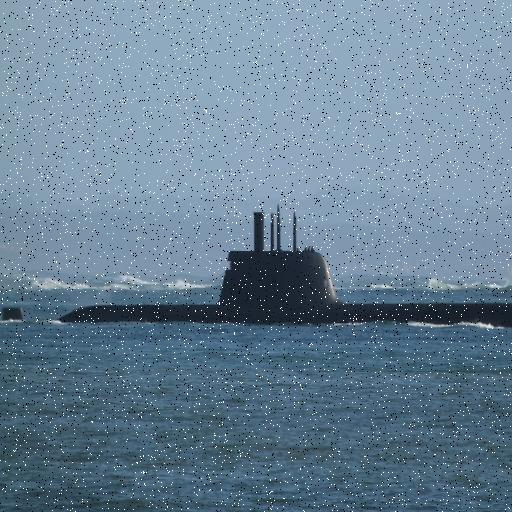submarine: (2, 198, 512, 326)
